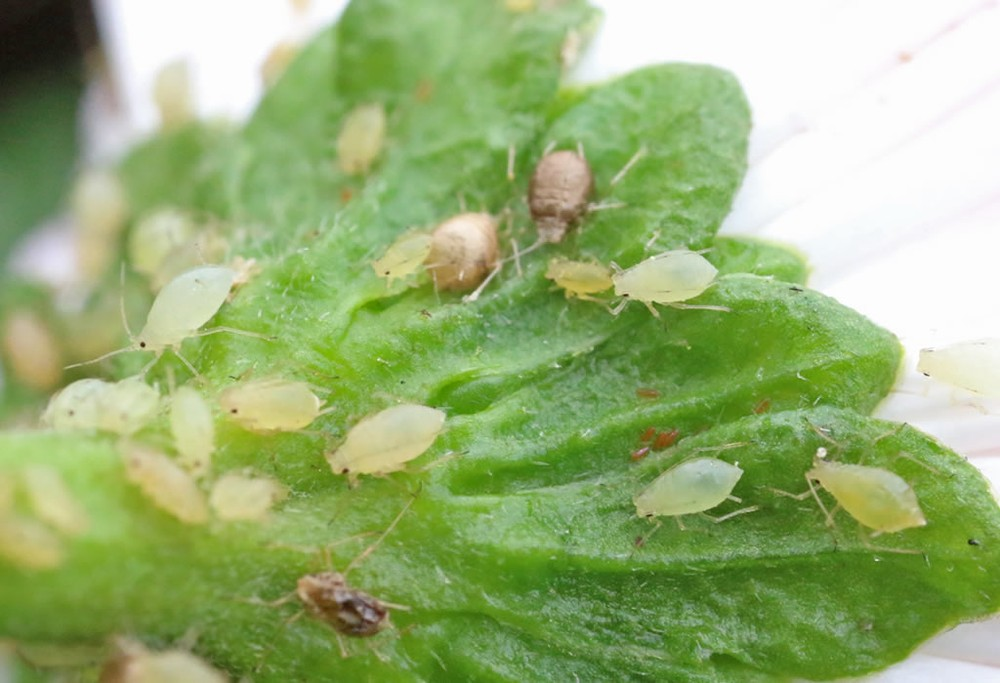Pulgon: (773, 423, 949, 569), (613, 423, 771, 549), (90, 257, 270, 366), (497, 116, 631, 255), (600, 218, 747, 339), (320, 389, 470, 503), (414, 182, 526, 296), (883, 315, 1000, 421), (109, 439, 215, 529), (218, 368, 336, 447), (160, 371, 234, 476), (353, 215, 451, 292), (526, 244, 619, 315)
